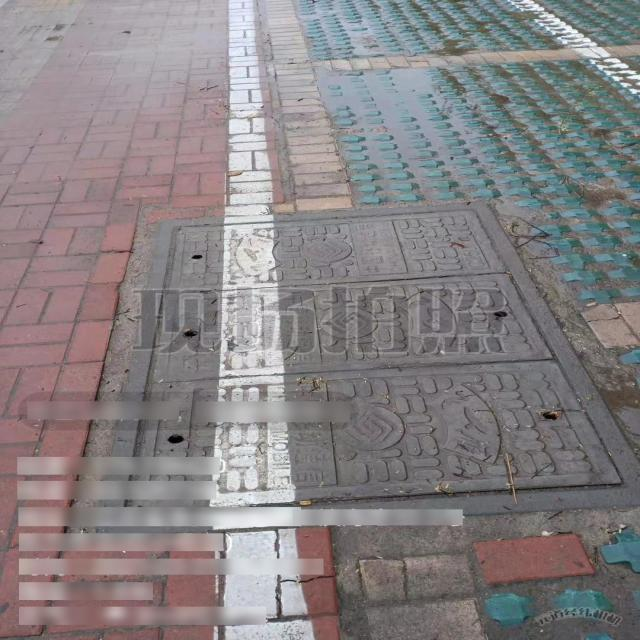Good: (92, 203, 640, 541)
